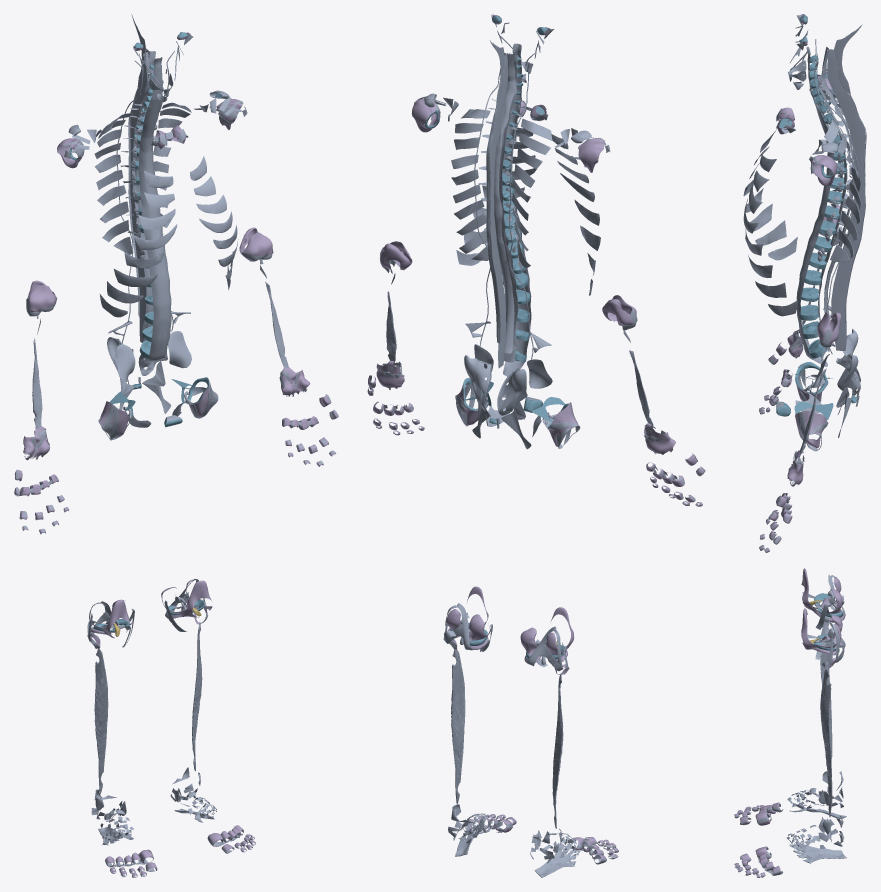
File: joints.glb
3 views of the same model, side by side, from view 1: azimuth 30°, elevation 25°; view 2: azimuth 150°, elevation 25°; view 3: azimuth 270°, elevation 25° (orthographic). The views are drawn at different scales.
Parts seen in each view (by area): view 1: j10, j136, j159, j135, j163, j171, j158, j29, j162, j30, j15, j37 (+1 smaller); view 2: j158, j211, j171, j159, j162, j10, j136, j306, j368, j312, j135, j311 (+4 smaller); view 3: j171, j135, j158, j10, j136, j162, j211, j38, j306, j37, j212, j29 (+12 smaller).
Boxes of the visible parts, x1,y1,x2,y2 form: j10: (138,57,171,363); j136: (99,170,177,317); j159: (94,113,132,254); j135: (190,156,238,289); j163: (94,648,108,794); j171: (130,50,149,342); j158: (153,102,191,235); j29: (239,227,272,261); j162: (192,622,202,771); j30: (27,280,56,311); j15: (167,331,191,368); j37: (161,579,211,618); j158: (451,109,490,260); j211: (494,53,515,353); j171: (488,53,508,368); j159: (512,119,552,271); j162: (451,649,465,804); j10: (502,43,531,376); j136: (551,134,600,295); j306: (499,53,518,362); j368: (486,108,500,343); j312: (497,368,527,415); j135: (456,127,536,265); j311: (464,355,491,411); j171: (826,49,865,350); j135: (743,154,797,316); j158: (824,116,861,262); j10: (796,46,833,366); j136: (743,129,797,260); j162: (820,668,832,817); j211: (822,47,854,320); j38: (801,568,844,622); j306: (816,53,847,351); j37: (801,608,842,655); j212: (789,843,846,864); j29: (817,312,841,343).
Bounding box in the file's own units: 66.15 × 158 × 23.08.
